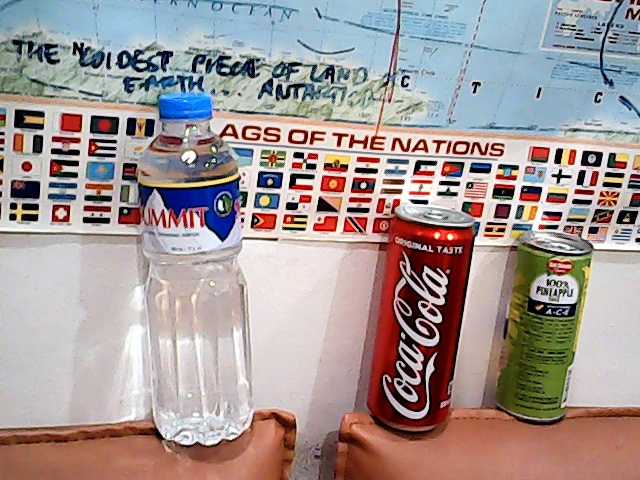Cola: (368, 195, 478, 446)
Pine Juice: (488, 220, 593, 428)
Summit Water: (124, 75, 271, 446)
